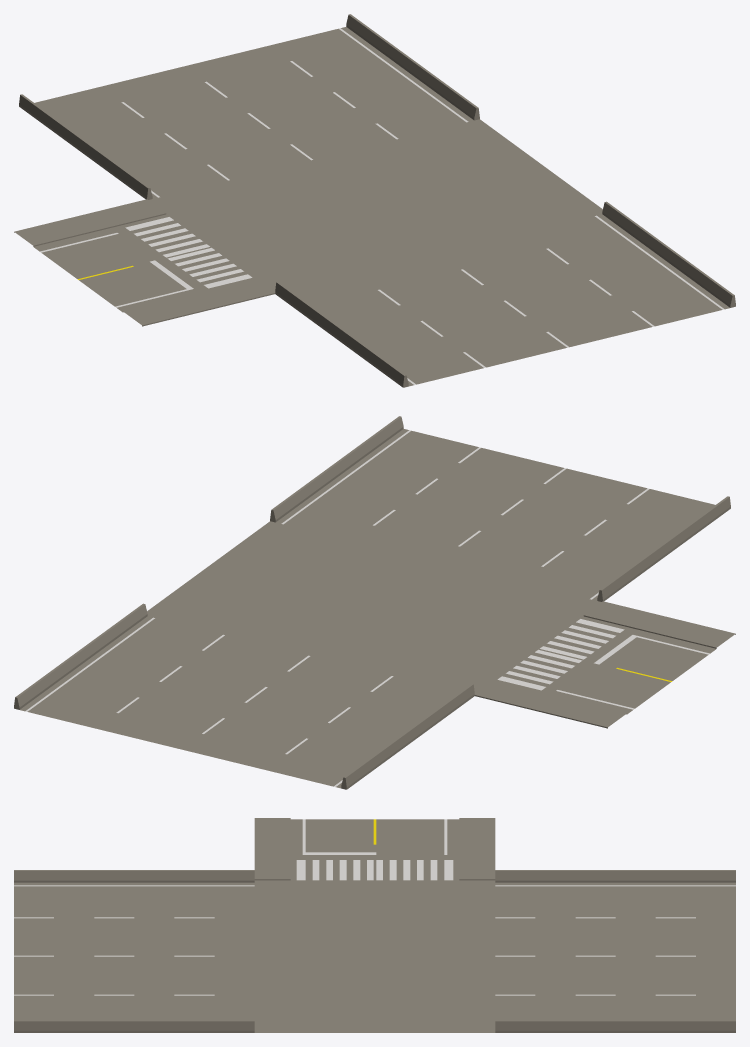
The model's file is highway_Straight_T-Cross.fbx.
3 renders of one model, top to bottom at view 1: azimuth 30°, elevation 25°; view 2: azimuth 150°, elevation 25°; view 3: azimuth 270°, elevation 25°, orthographic. The views are drawn at different scales.
Visible parts, largest first — view 1: T-Cross; view 2: T-Cross; view 3: T-Cross.
Boxes of the visible parts, x1,y1,x2,y2 form: T-Cross: (14,14,735,387); T-Cross: (14,416,735,789); T-Cross: (14,818,735,1032).
Size of the model in its own units: 42 by 1 by 60.
